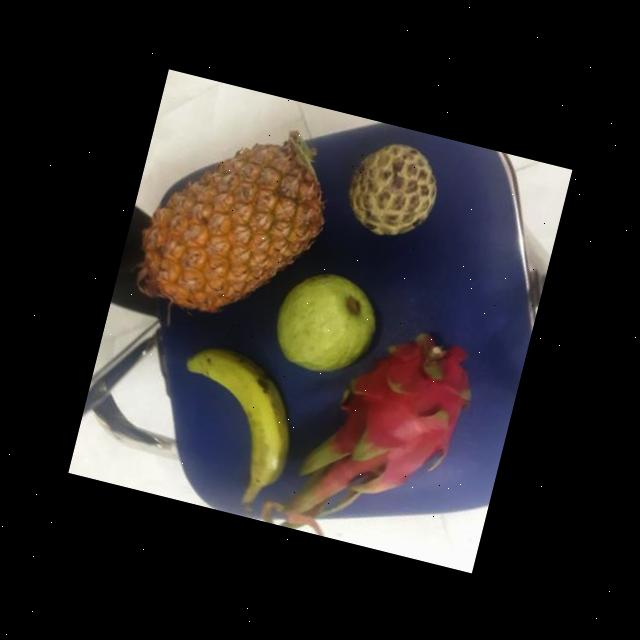Sakya fruit: (339, 133, 446, 247)
guava: (267, 262, 387, 388)
pineapple: (125, 116, 338, 337)
pitaya: (317, 318, 483, 508)
